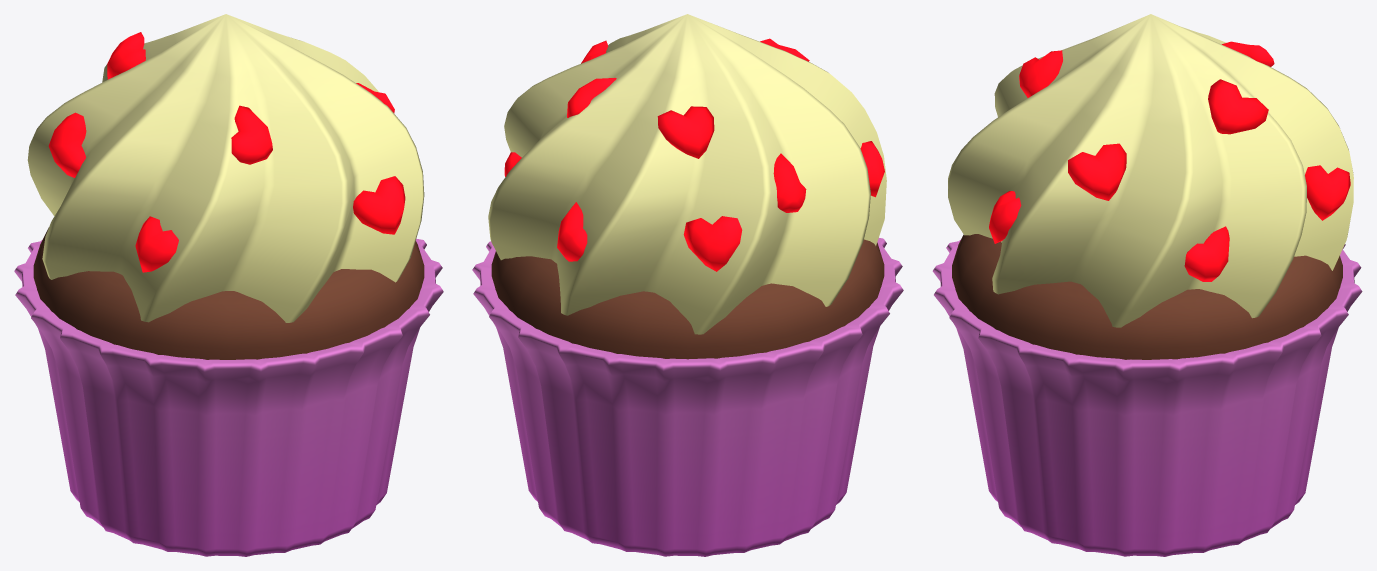
Rendered from Cupcake_01.glb.
3 views of the same model, side by side, from view 1: azimuth 30°, elevation 25°; view 2: azimuth 150°, elevation 25°; view 3: azimuth 270°, elevation 25° (orthographic).
Visible parts, largest first — view 1: Cupcake_01; view 2: Cupcake_01; view 3: Cupcake_01.
Boxes of the visible parts, left/top/right/bottom form: Cupcake_01: left=14, top=14, right=443, bottom=556; Cupcake_01: left=472, top=14, right=903, bottom=556; Cupcake_01: left=932, top=14, right=1362, bottom=556.
Bounding box in the file's own units: 4.58 × 5.67 × 4.58.
2 materials, 2 textured.
